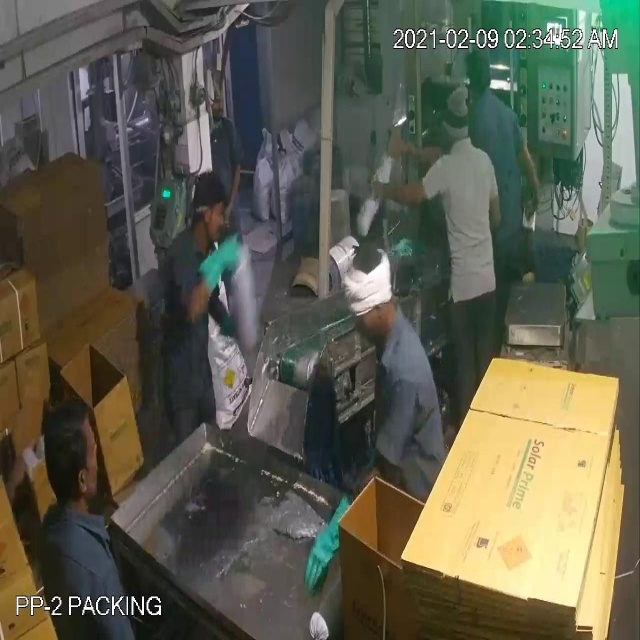Guantes: (189, 242, 254, 310)
Sin_guantes: (377, 124, 470, 176), (366, 164, 437, 212)
